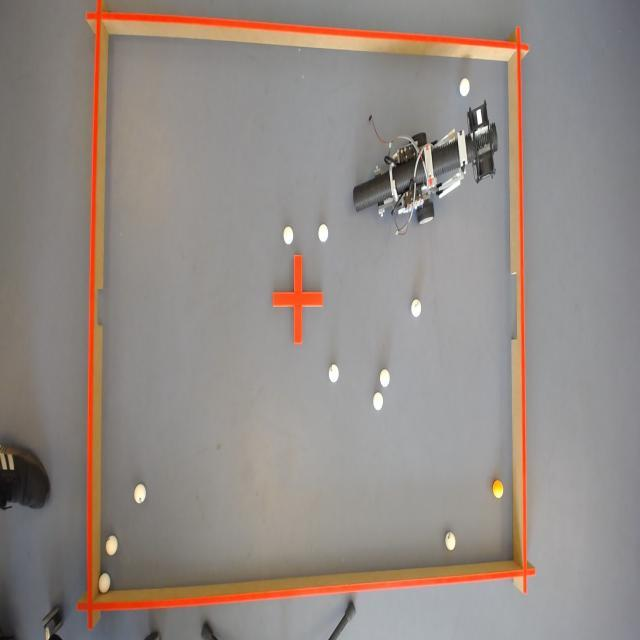orange-golf-balls: (493, 480, 504, 499)
robot: (353, 101, 499, 221)
white-golf-balls: (105, 535, 117, 556), (98, 573, 110, 594), (133, 484, 145, 503), (460, 76, 471, 95), (329, 363, 339, 382), (380, 368, 390, 387), (446, 532, 456, 551), (412, 298, 422, 316), (319, 223, 328, 241), (374, 392, 383, 410), (284, 226, 293, 243)
